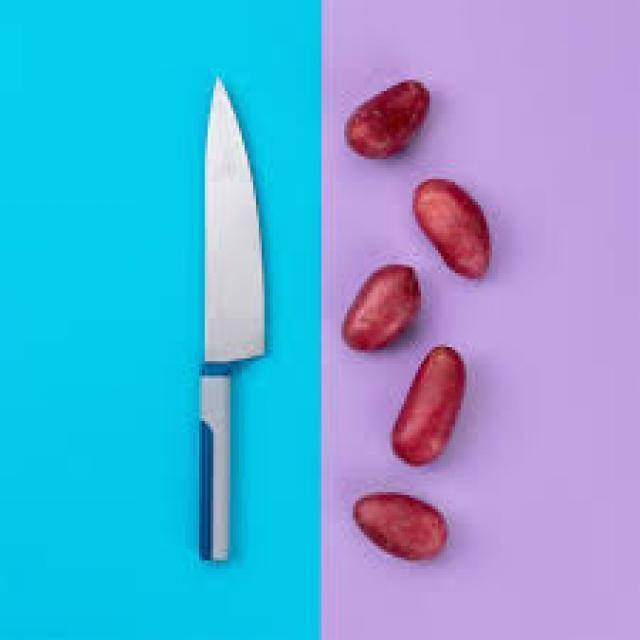knife: (122, 81, 311, 610)
